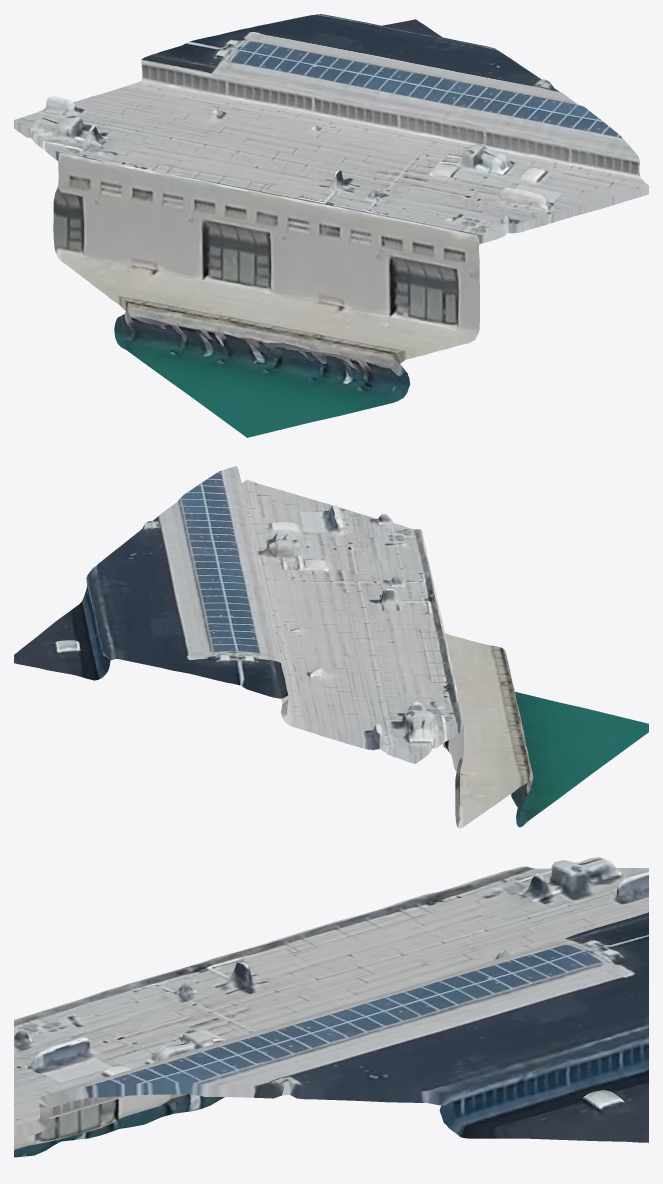
File: z20-167779-405203-h0-yup-uvflip-v3-world.glb
3 views of the same model, one above another, from view 1: azimuth 30°, elevation 25°; view 2: azimuth 150°, elevation 25°; view 3: azimuth 270°, elevation 25° (orthographic). The views are drawn at different scales.
Bounding box in the file's own units: 30.16 × 13.48 × 30.32.
1 material, 1 textured.
